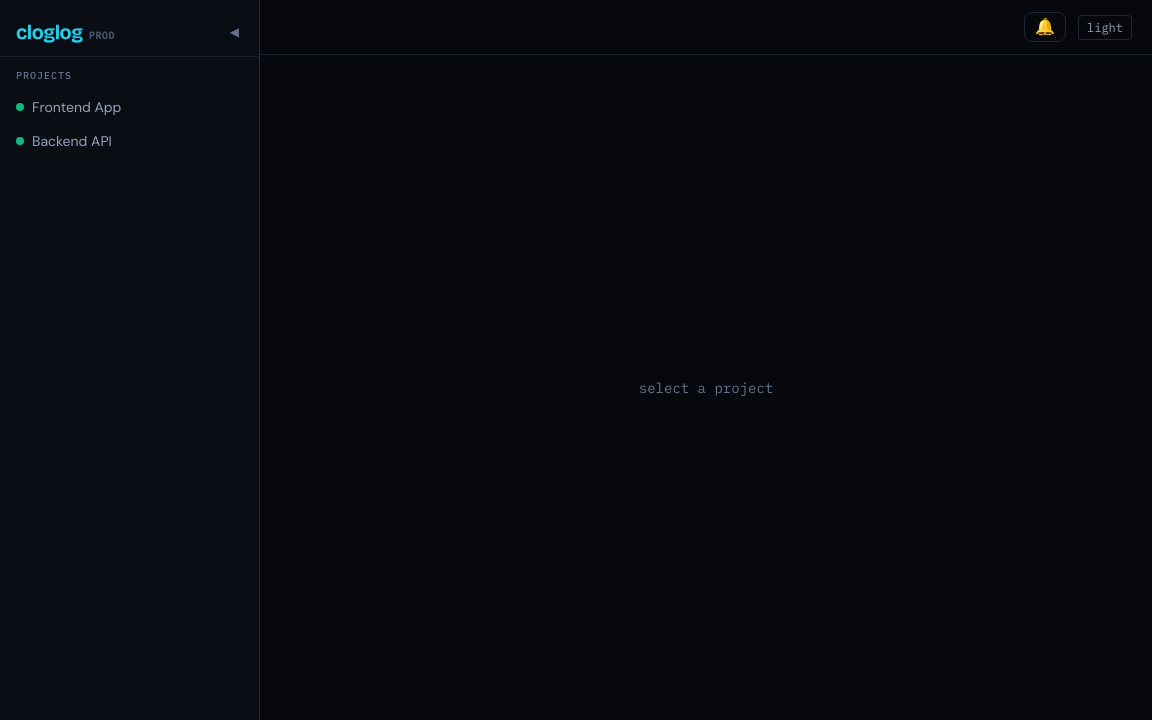
Scenario: App integration › closing detail panel returns to board view
Expected: the text "Frontend App" is shown, [32, 98, 121, 116]
Click the button "Frontend App" at [130, 107], box [0, 90, 259, 124]
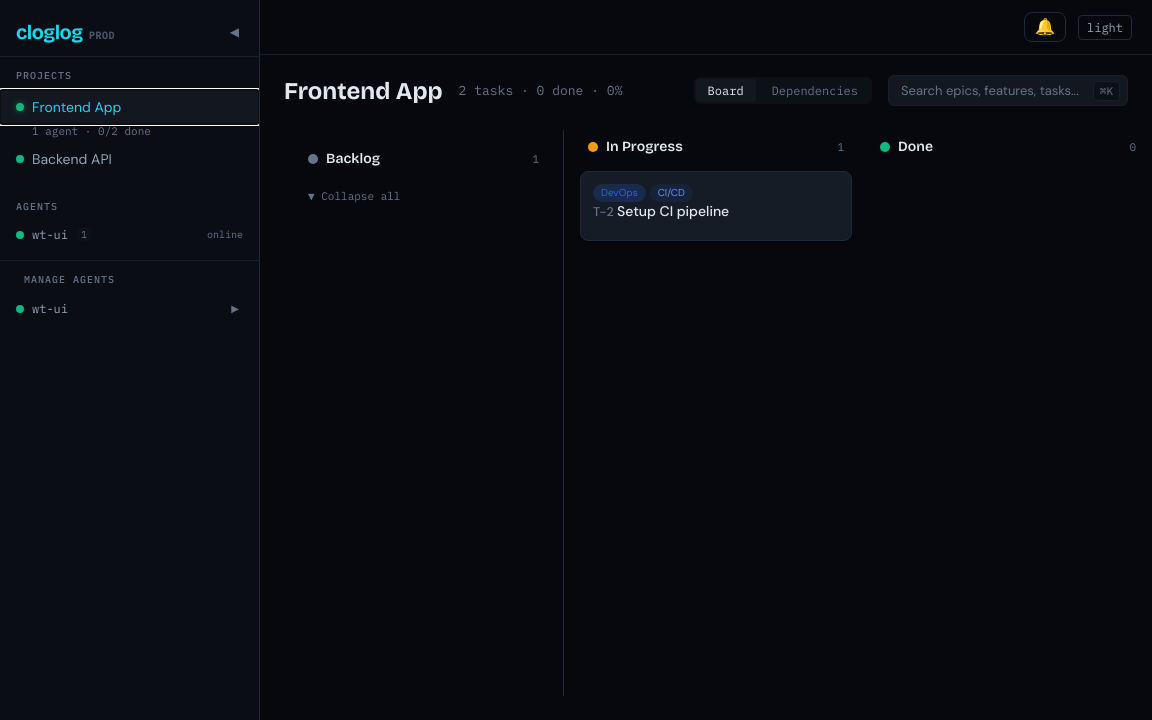
Click the text "Setup CI pipeline" at [661, 211], box [593, 202, 729, 220]
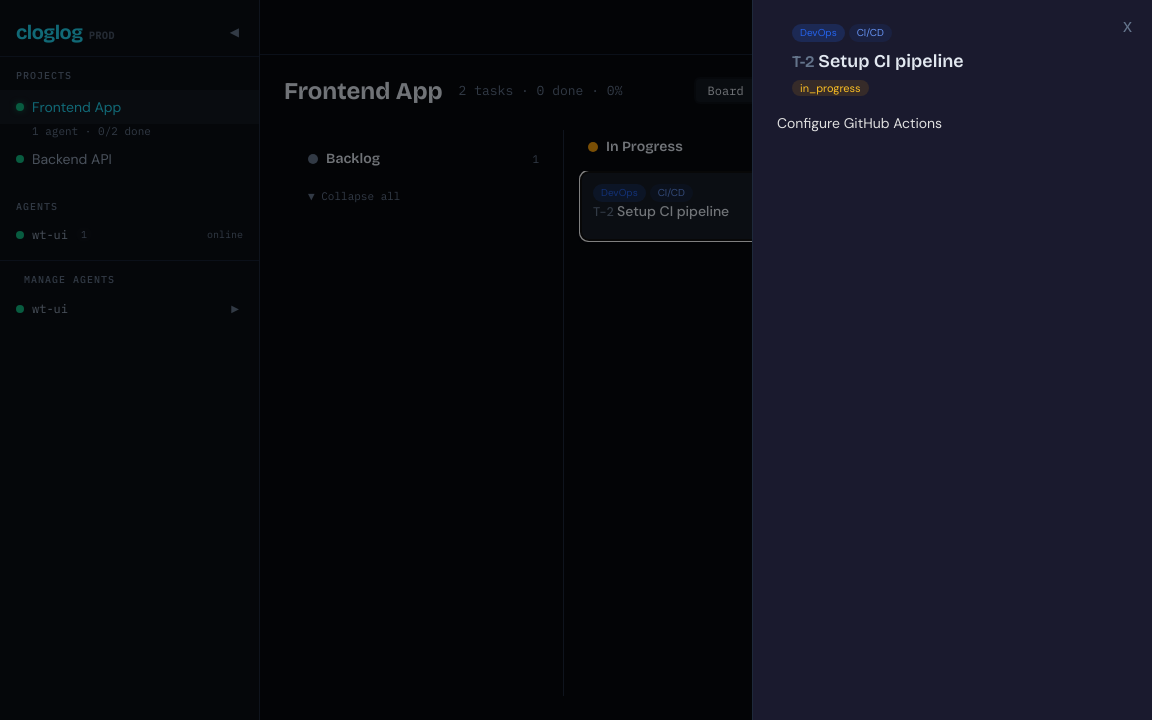
Now the text "Configure GitHub Actions" is shown, box [777, 114, 942, 132]
Click the close button
Click the button "x" at [1128, 26], box [1115, 12, 1140, 41]
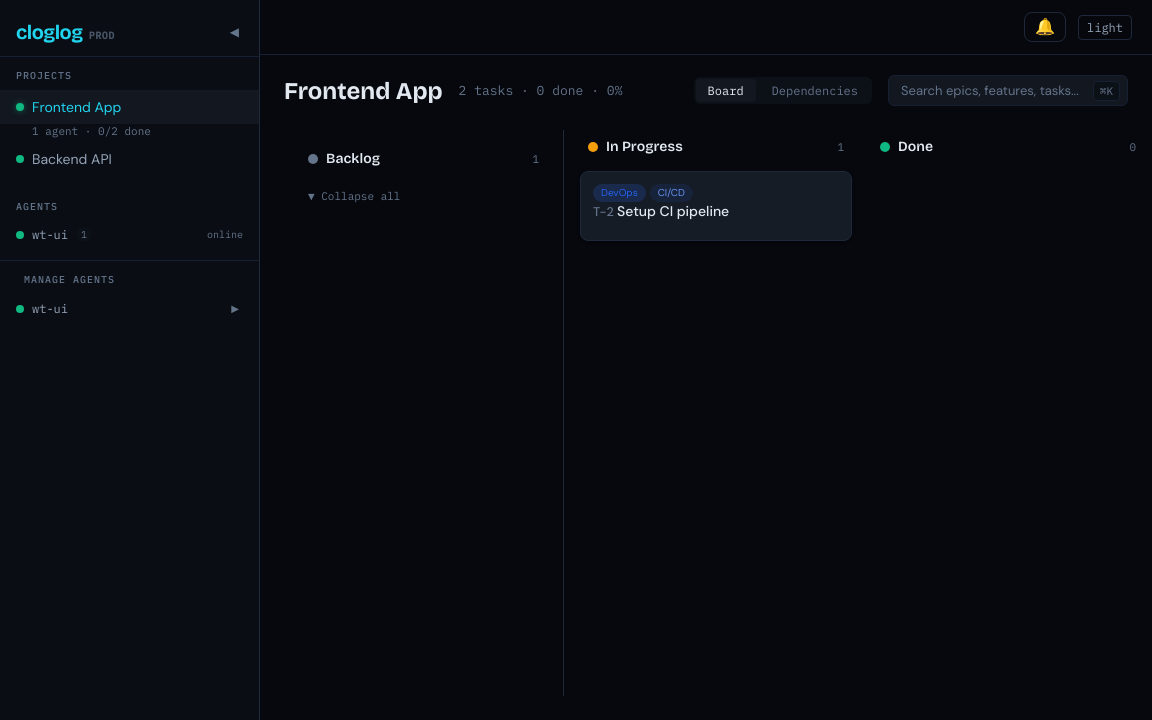
Now the text "Setup CI pipeline" is shown, box [617, 202, 729, 220]
Now the text "Configure GitHub Actions" is gone
